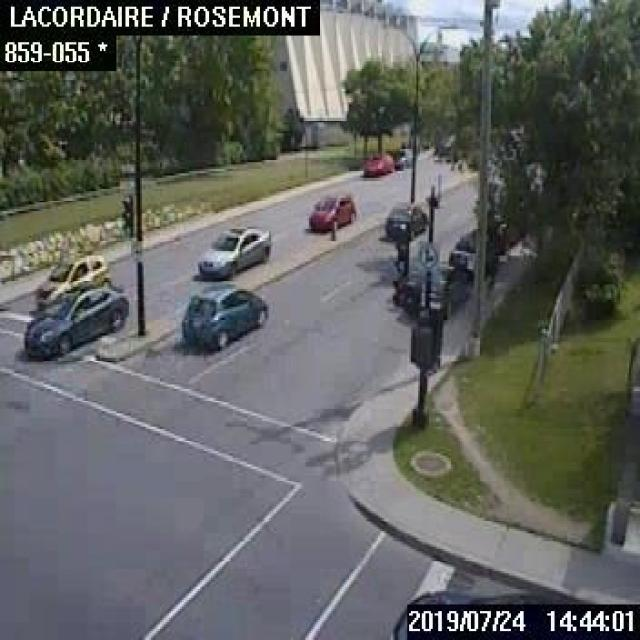vehicle: (22, 288, 128, 356), (181, 283, 266, 349), (197, 226, 268, 280), (32, 254, 109, 302), (407, 261, 466, 317), (446, 230, 496, 278), (307, 193, 354, 229), (384, 204, 426, 240), (362, 151, 392, 174), (391, 146, 411, 168)
